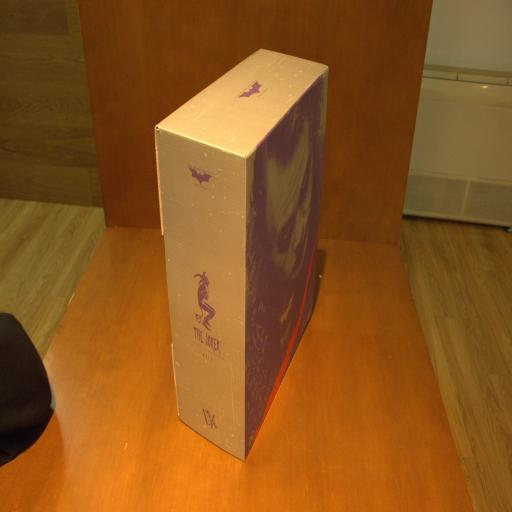Joker: (157, 48, 328, 460)
